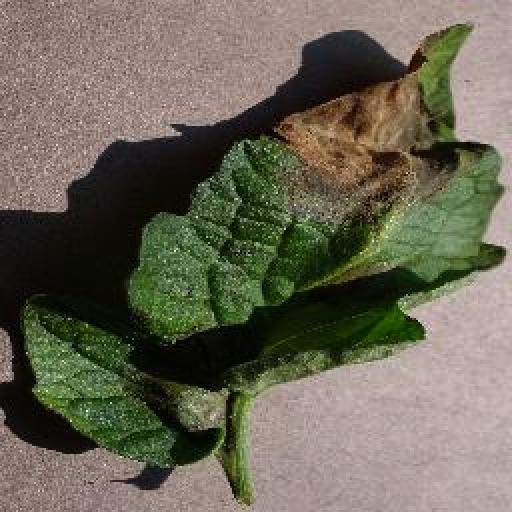disease_tomato: (18, 19, 510, 469)
